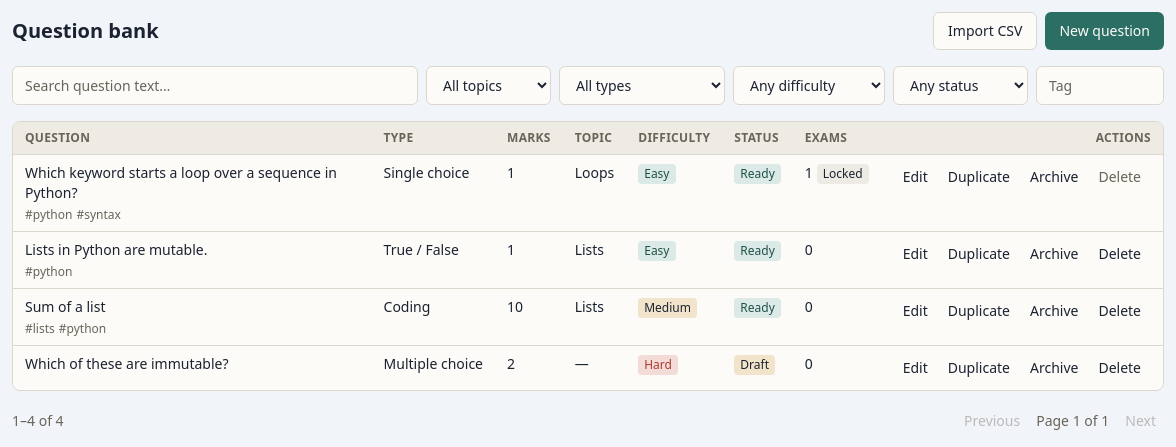
Test: QuestionBankPage › disables Delete for questions used in exams, and archives through metadata
Expected: the button "Delete" in the row of "Single choice" is disabled, [1088, 163, 1151, 191]
Click the button "Archive" in the row of "Single choice".
click(1054, 177)  # box [1020, 163, 1088, 191]
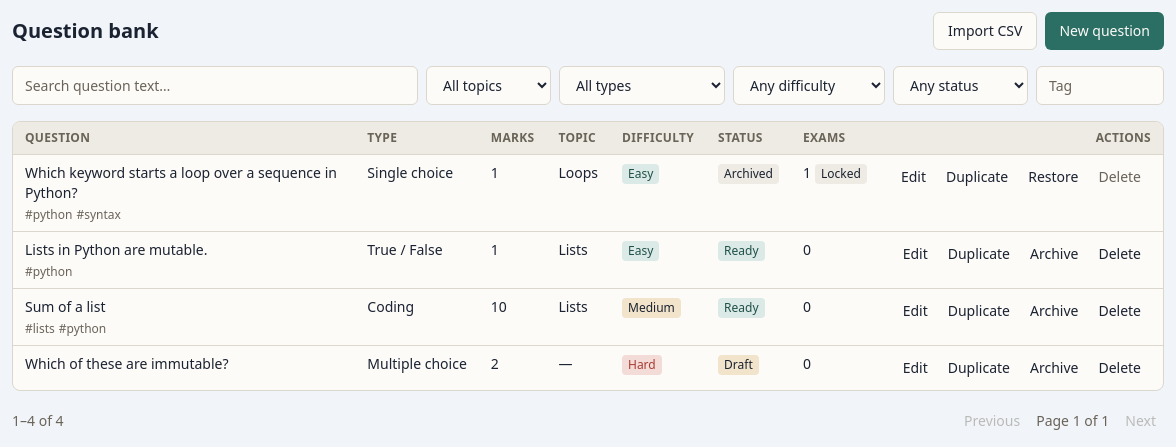
Now the button "Restore" is shown, box [1018, 163, 1088, 191]
